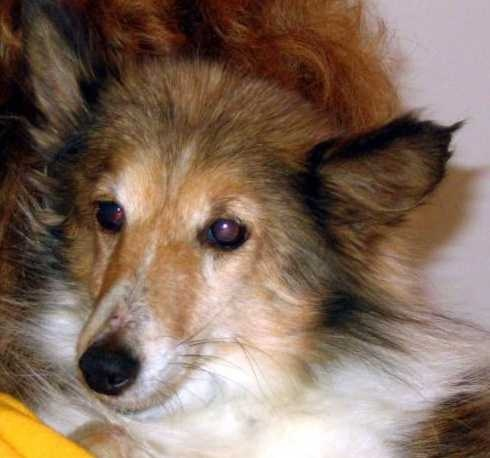Dog: (0, 0, 460, 432)
